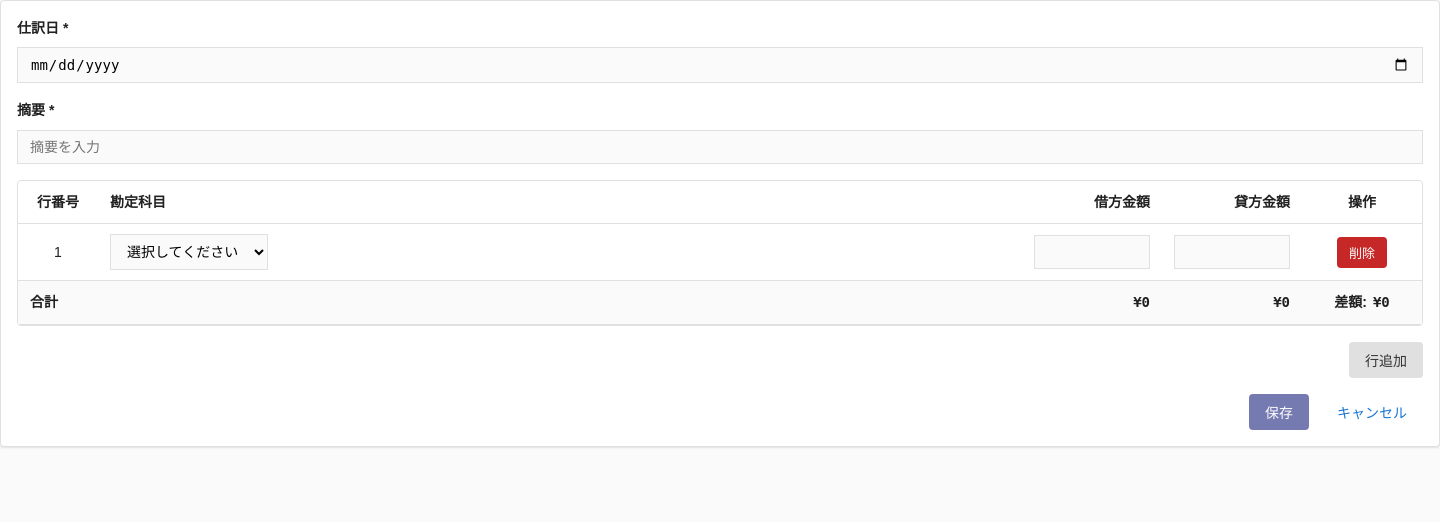
Test: JournalEntryForm › adds a new line
Click the button with test id "journal-entry-add-line" at {"x": 1386, "y": 360}, box [1349, 342, 1423, 378]
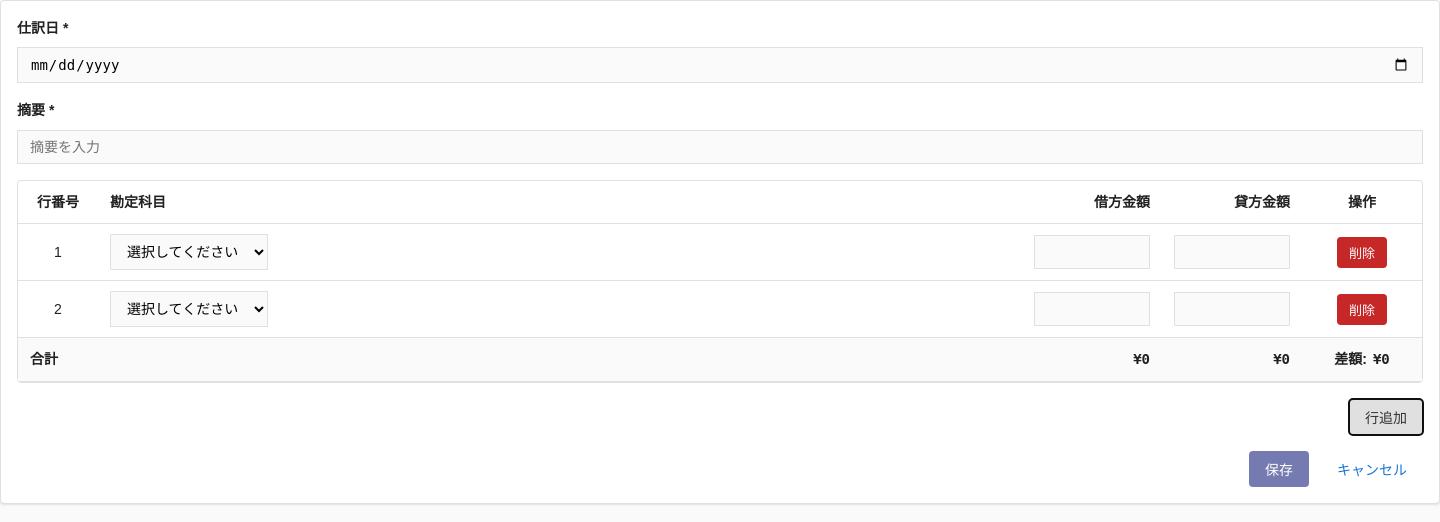
Expected: the dropdown with test id "journal-entry-account-1" is shown, [110, 291, 268, 327]
Expected: the number field with test id "journal-entry-debit-1" is shown, [1034, 292, 1150, 326]
